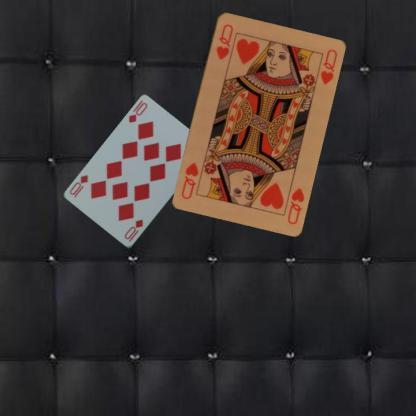10d: (122, 216, 144, 244), (126, 100, 148, 125)
Qh: (284, 184, 306, 226), (213, 20, 234, 62)
